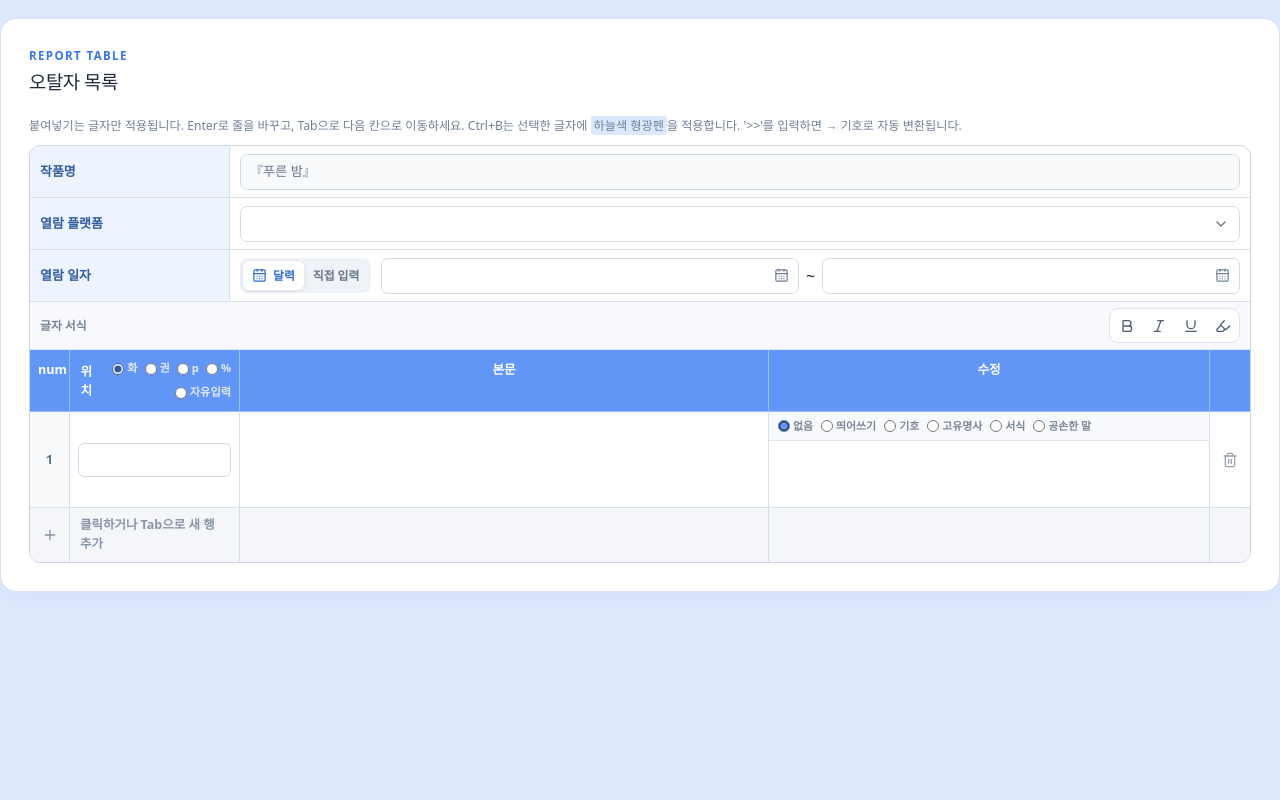
Scenario: 오탈자 표 › 플랫폼 선택 목록을 입력창에 연결해 표시한다
This screenshot has width=1280, height=800.
Click the dropdown named "열람 플랫폼": (740, 224) [240, 206, 1240, 242]
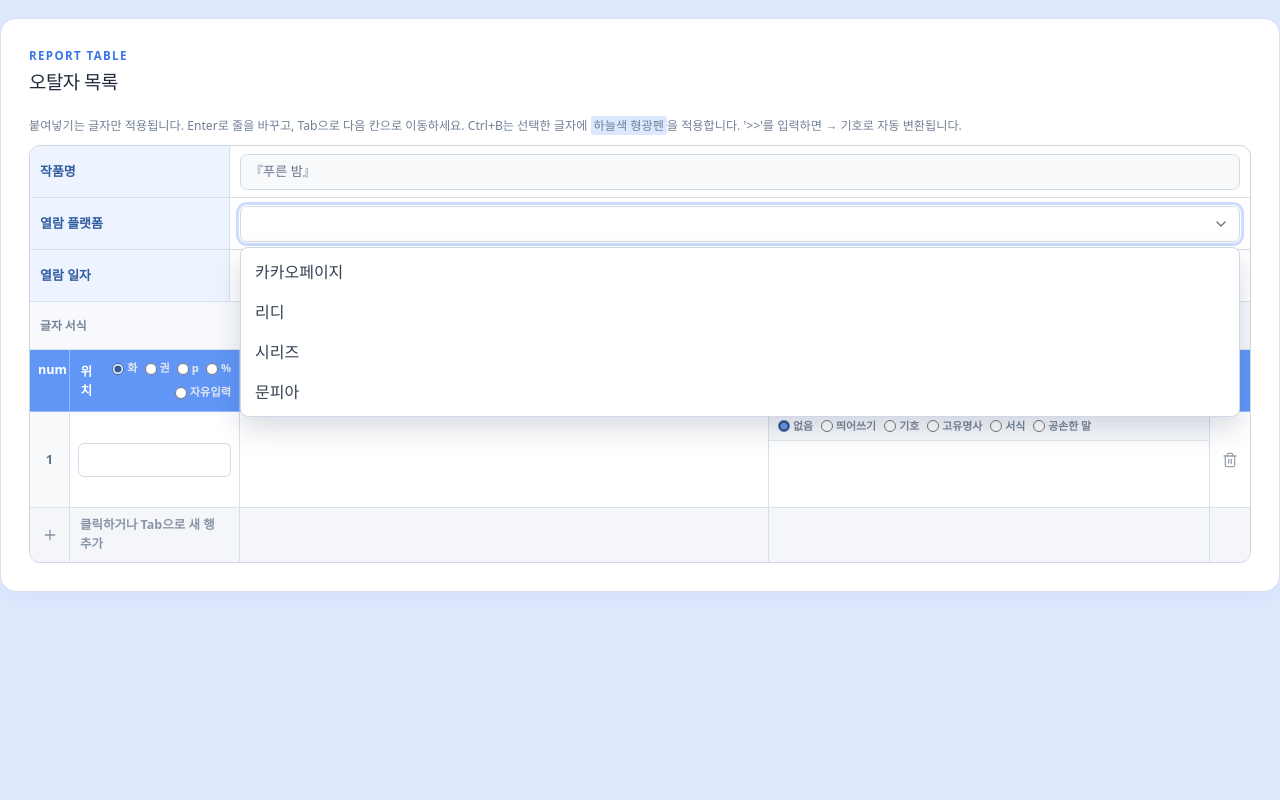
Check: the list is shown, box [240, 247, 1240, 417]
Click the option "리디": (270, 312) [245, 292, 1235, 332]
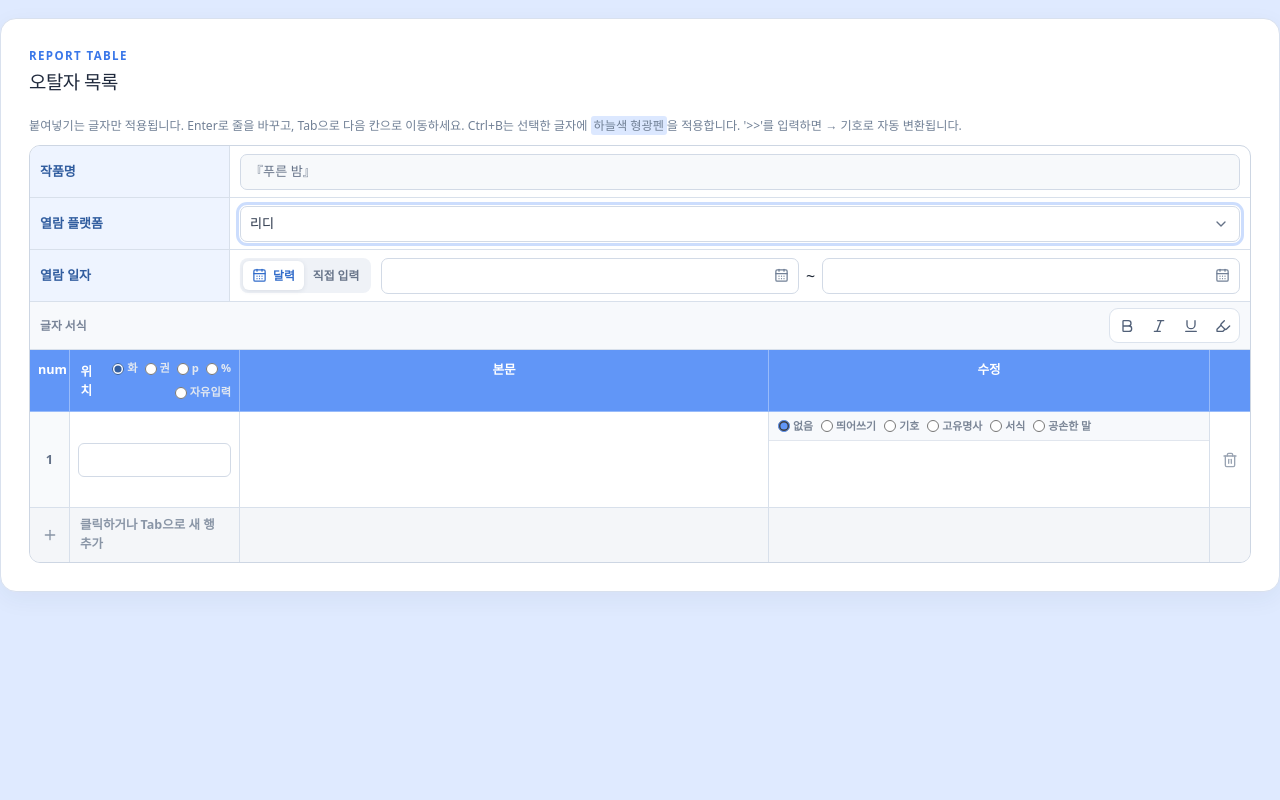
Check: the dropdown named "열람 플랫폼" holds "리디", box [240, 206, 1240, 242]
Check: the list is gone
